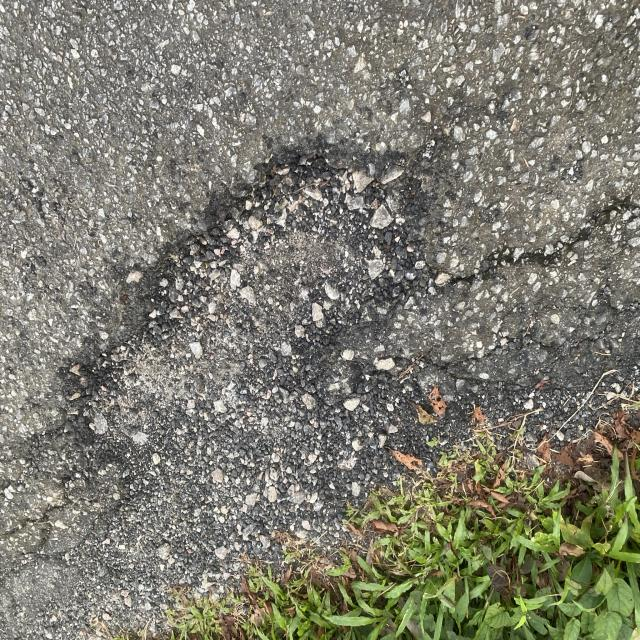Pothole: (92, 143, 491, 433)
